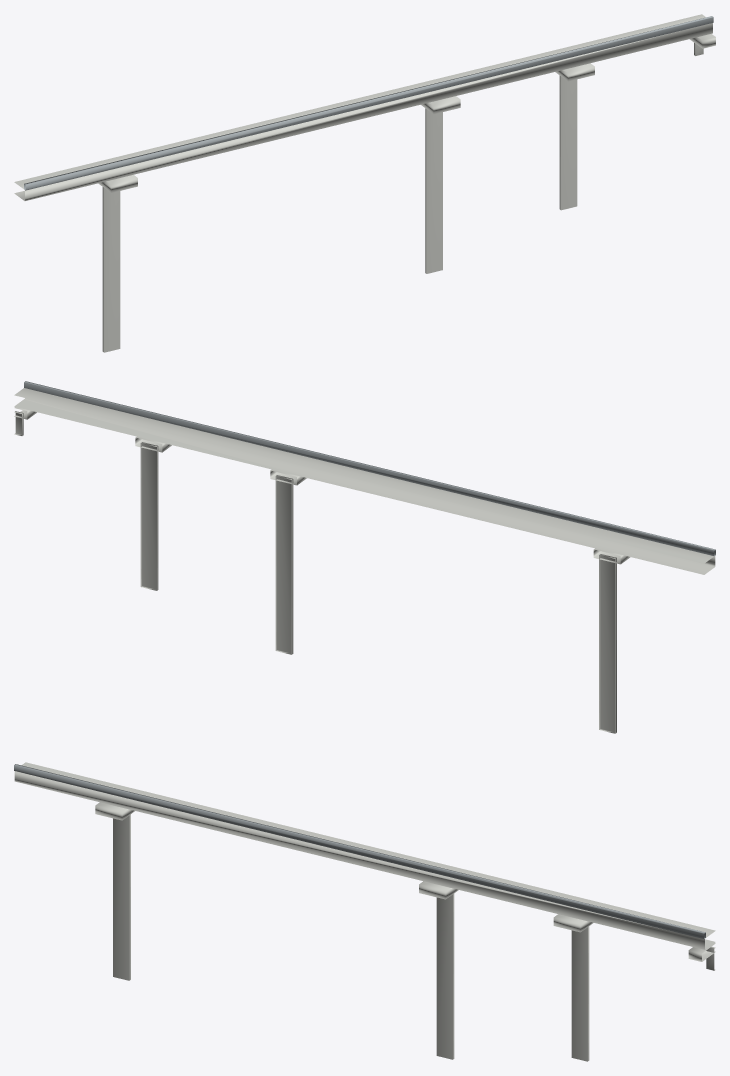
File: alpine-9-12.glb
3 views of the same model, one above another, from view 1: azimuth 30°, elevation 25°; view 2: azimuth 150°, elevation 25°; view 3: azimuth 330°, elevation 25° (orthographic).
Visible parts, largest first — view 1: alpine-9-12; view 2: alpine-9-12; view 3: alpine-9-12.
Part boxes in pixels (bbox=[...]): alpine-9-12: bbox=[14, 14, 715, 352]; alpine-9-12: bbox=[14, 381, 715, 733]; alpine-9-12: bbox=[14, 762, 715, 1061].
Size of the model in its own units: 256 by 69.98 by 9.
2 materials, 2 textured.
